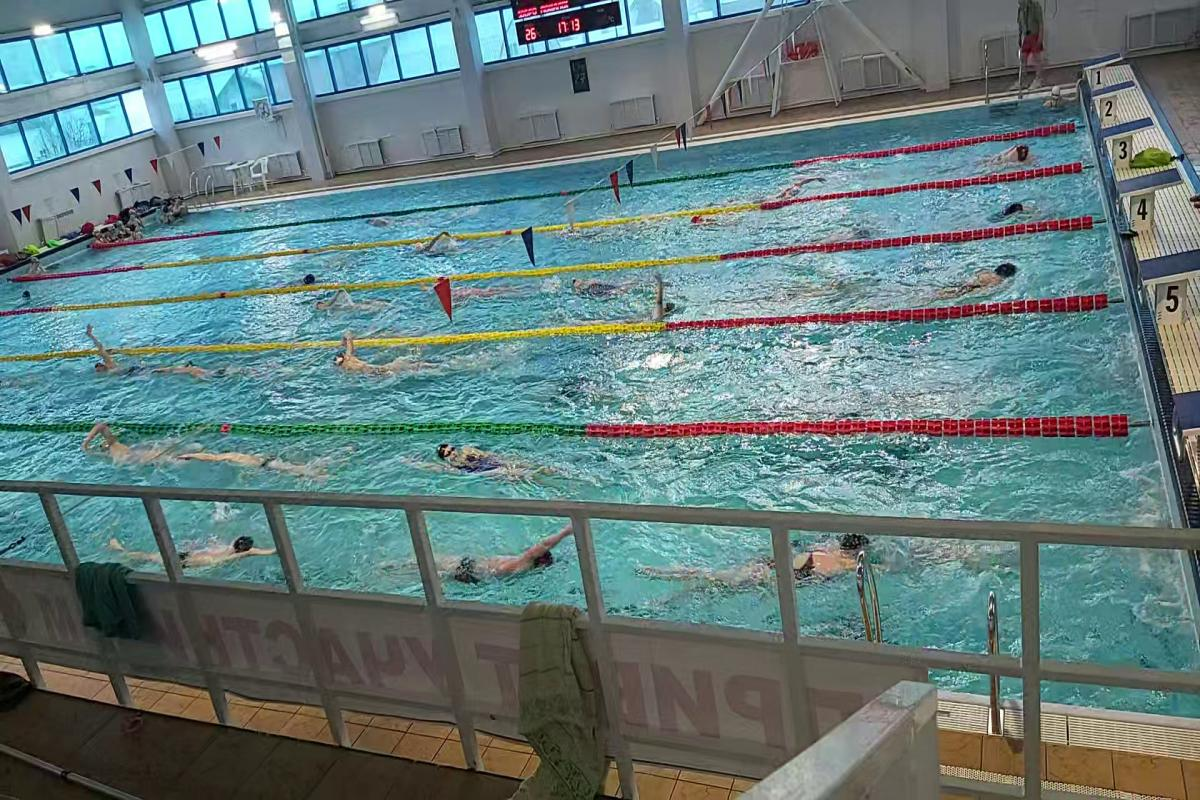swimmer: (654, 549, 888, 597), (438, 525, 573, 593), (403, 433, 565, 488), (187, 428, 331, 488), (118, 525, 268, 574), (324, 336, 444, 384), (75, 421, 169, 469), (928, 253, 1020, 299), (155, 348, 245, 389), (984, 136, 1044, 172), (85, 347, 148, 378), (310, 289, 381, 313), (639, 277, 680, 317), (561, 274, 628, 298), (985, 194, 1043, 220), (690, 210, 742, 234), (766, 175, 827, 195), (410, 234, 456, 260), (288, 269, 324, 285)
